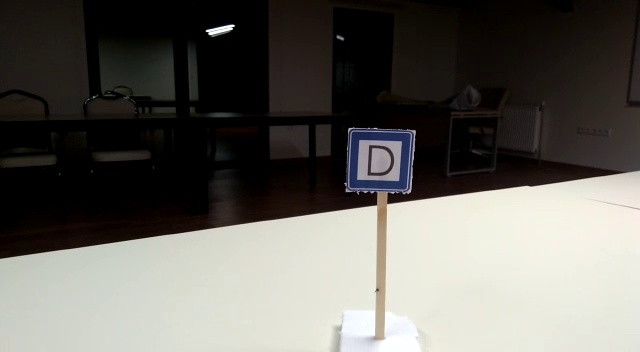durak: (347, 129, 414, 192)
